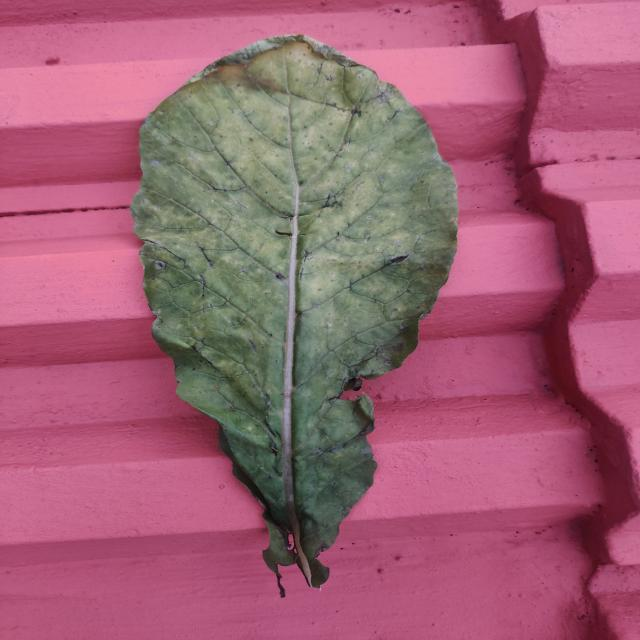black root rot raddish: (132, 35, 457, 586)
